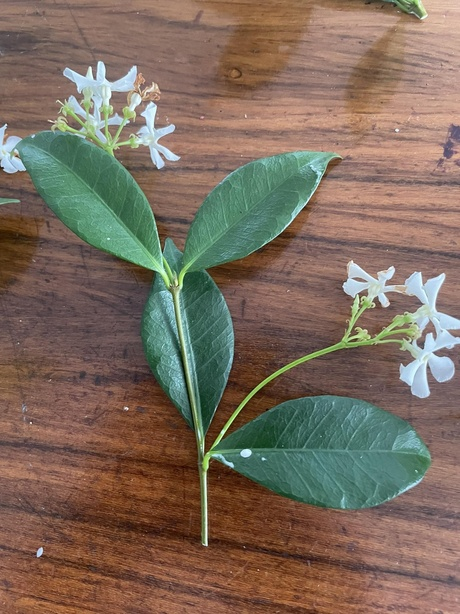leaf: (210, 386, 430, 512), (16, 127, 168, 283), (177, 146, 339, 277), (137, 260, 246, 445)
